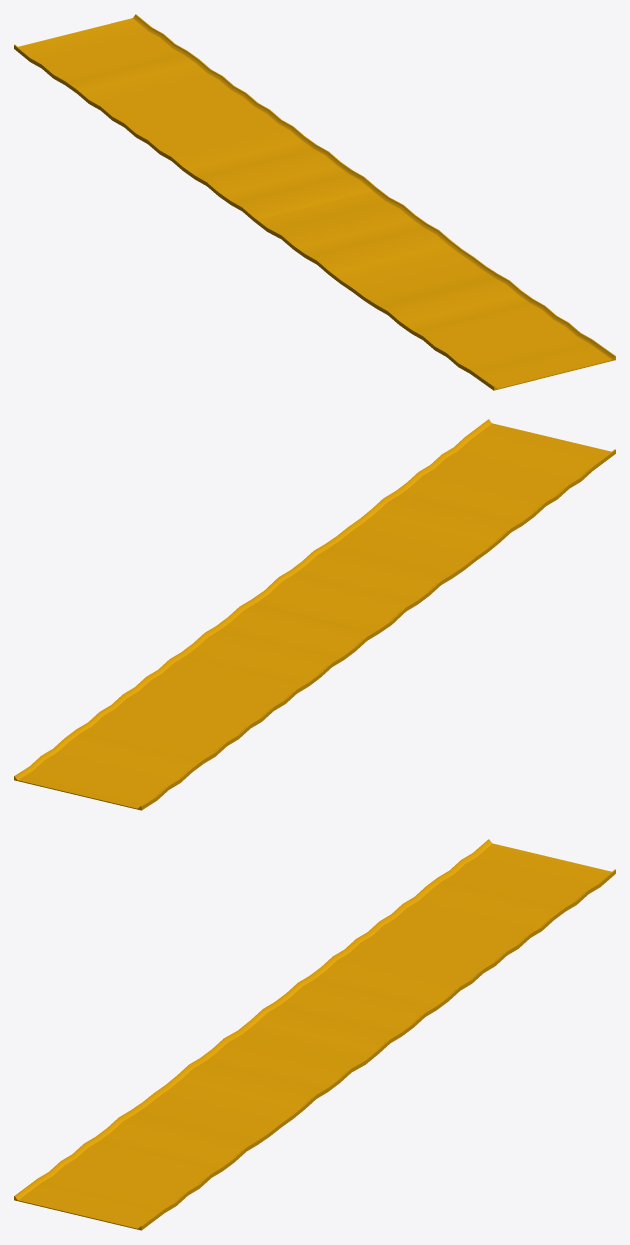
Rendered from 14mTrack_Blockout_LongStraightRough.fbx.
3 views of the same model, one above another, from view 1: azimuth 30°, elevation 25°; view 2: azimuth 150°, elevation 25°; view 3: azimuth 330°, elevation 25° (orthographic). The views are drawn at different scales.
Visible parts, largest first — view 1: polySurface90; view 2: polySurface90; view 3: polySurface90.
Part boxes in pixels (left/top/right/bottom): polySurface90: left=14, top=14, right=615, bottom=390; polySurface90: left=14, top=419, right=615, bottom=810; polySurface90: left=14, top=839, right=615, bottom=1230.
Size of the model in its own units: 1509 by 72.04 by 9289.
